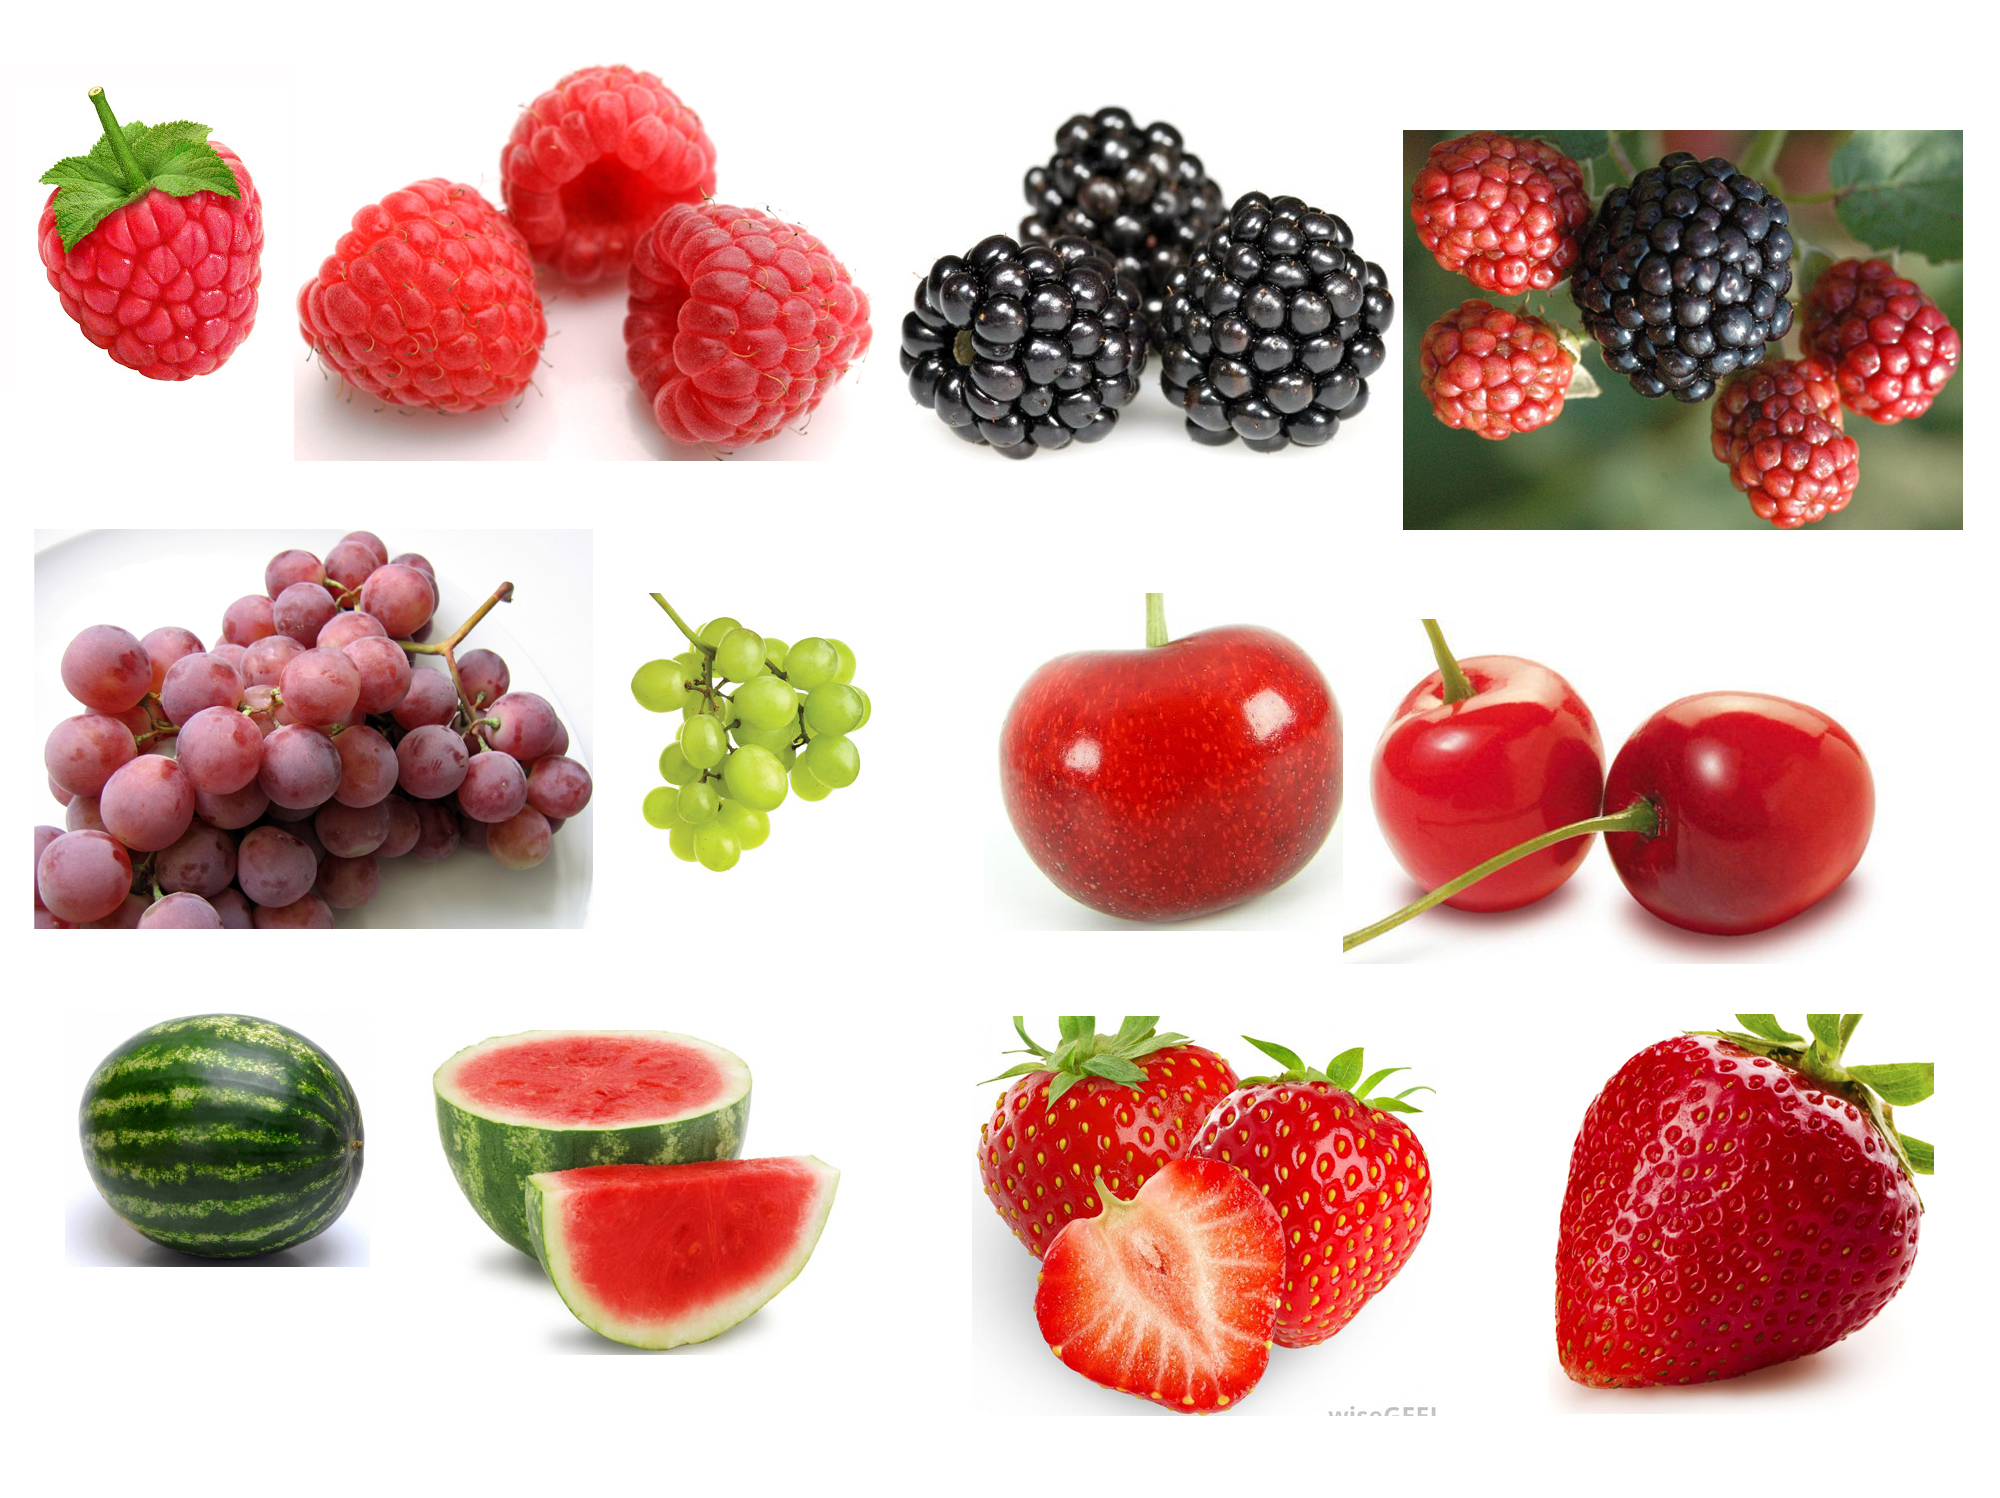Blueberry - (148 grams- 85 calories): (1175, 197, 1405, 470), (910, 228, 1164, 466), (969, 105, 1253, 301), (1588, 153, 1805, 401), (1800, 234, 1987, 434), (1404, 132, 1589, 307), (1706, 367, 1880, 546), (1419, 301, 1581, 444)
Cherry - (100 grams - 50 calories): (994, 571, 1355, 946), (1382, 611, 1610, 954), (1622, 666, 1887, 950)
Grape - (92 grams - 62 calories): (44, 541, 598, 919), (622, 537, 919, 905)
Raspberry - 100 grams (53 calories): (290, 176, 592, 433), (587, 212, 889, 464), (20, 110, 291, 386), (475, 55, 730, 282)
Strawberry - (144 grams - 47 calories): (1566, 1007, 1946, 1422), (954, 1013, 1267, 1308), (1171, 1062, 1437, 1366), (1035, 1139, 1297, 1429)
Strawberry and Blueberry Tropical Smothie: (16, 9, 1998, 1437)
Watermelon (152 grams - 46 calories): (404, 1028, 751, 1289), (71, 1005, 386, 1262), (507, 1172, 854, 1371)
